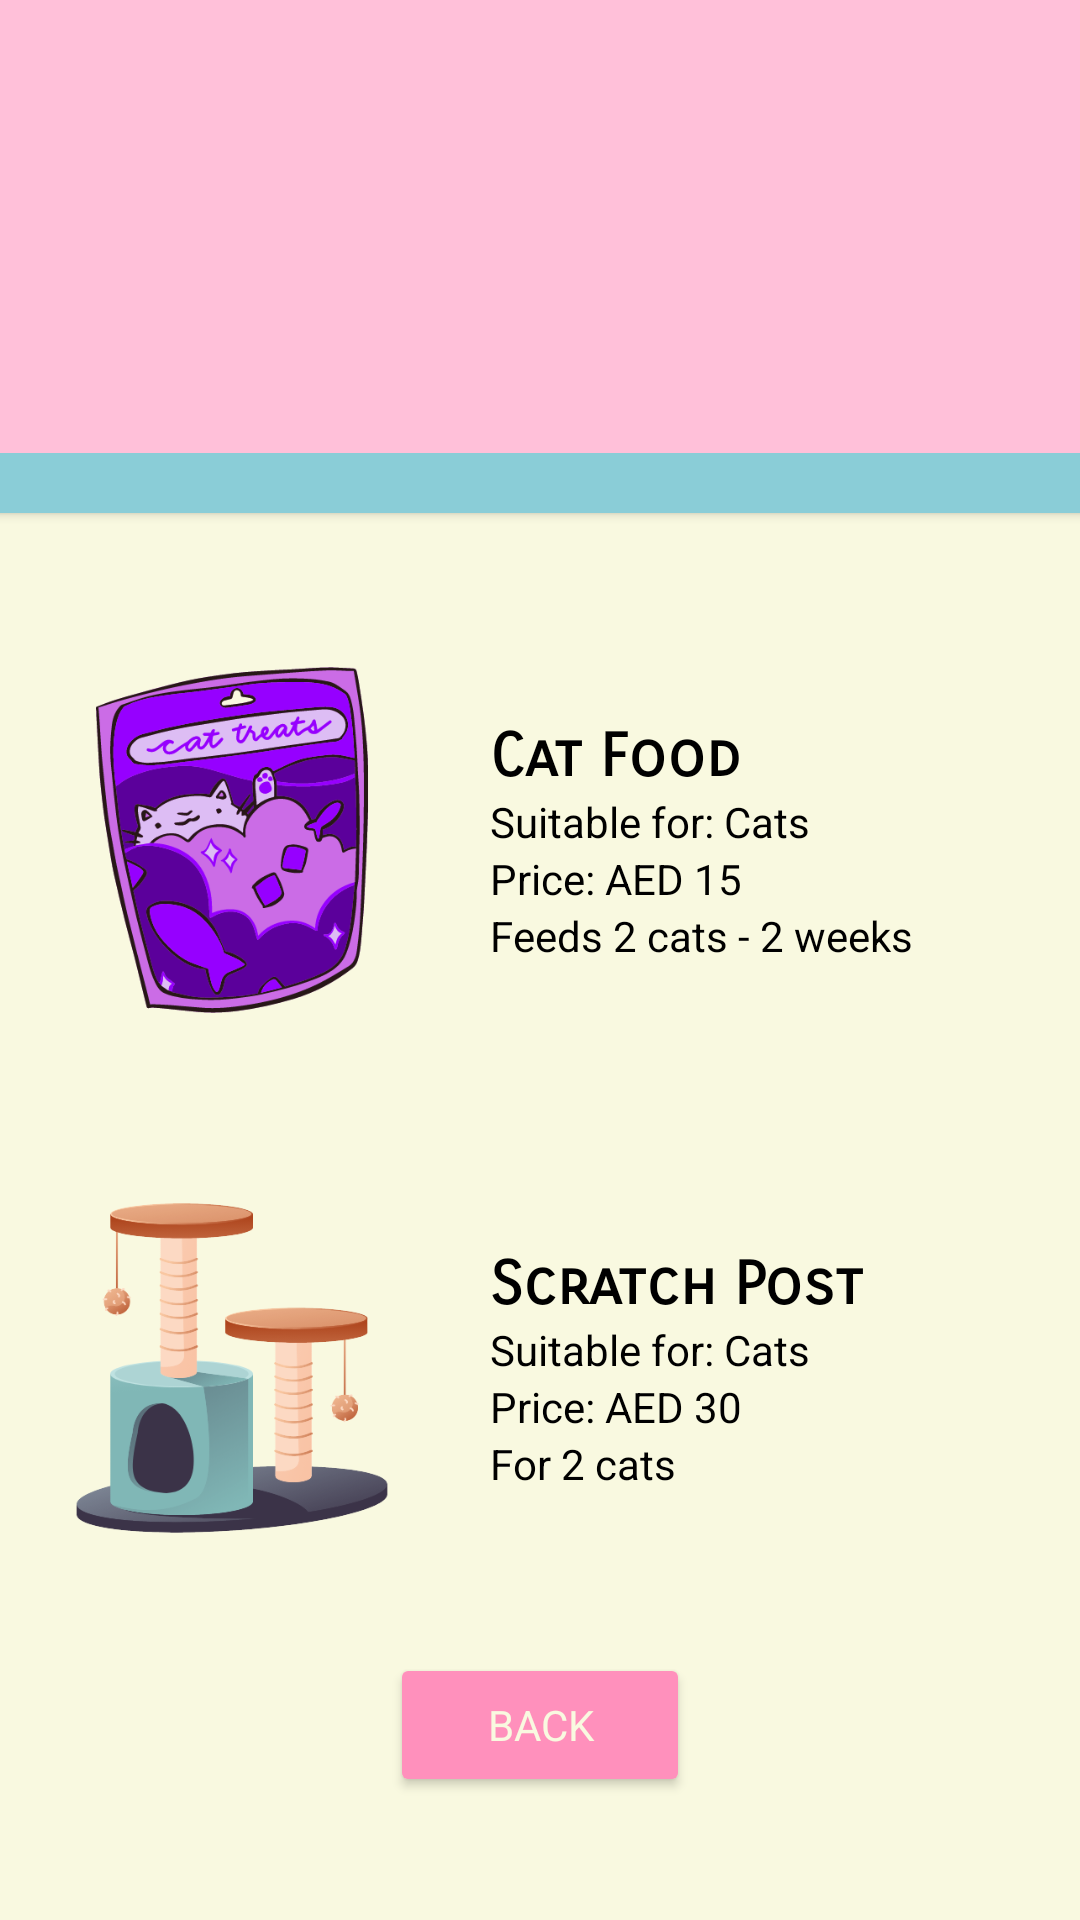

Locate icon controls on the screen. Image size 1080 × 1920, boxes as bbox(x1, y1, x2, y2).
cataccessory: bbox(76, 1203, 388, 1533)
